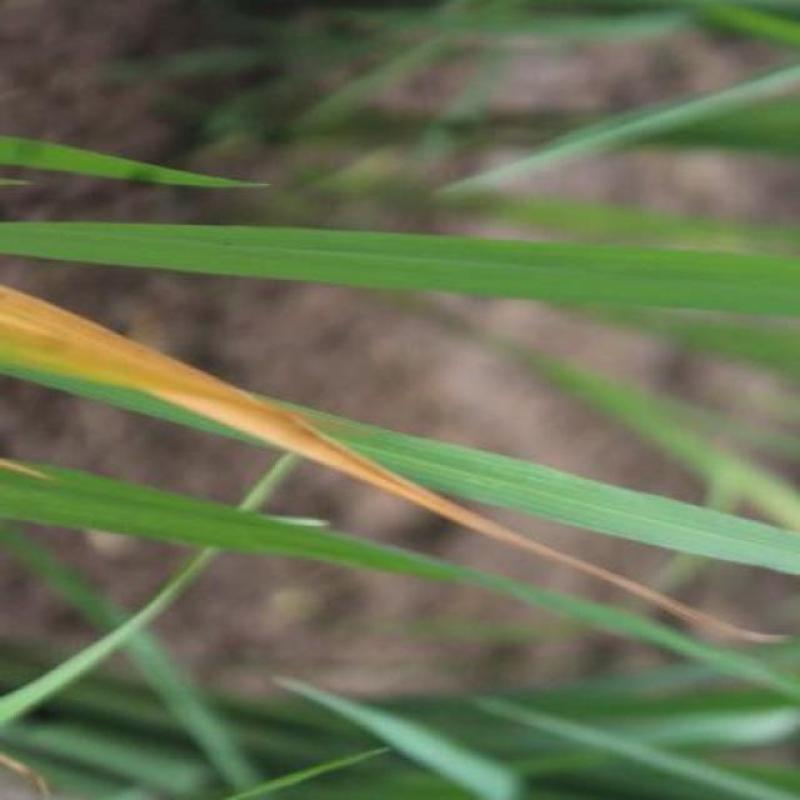Rice Tungro: (20, 285, 766, 629)
